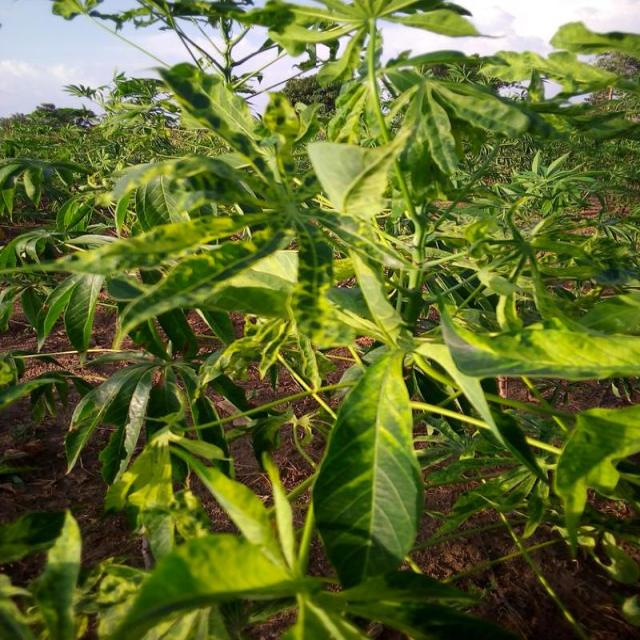cassava leaf: (312, 348, 426, 590)
